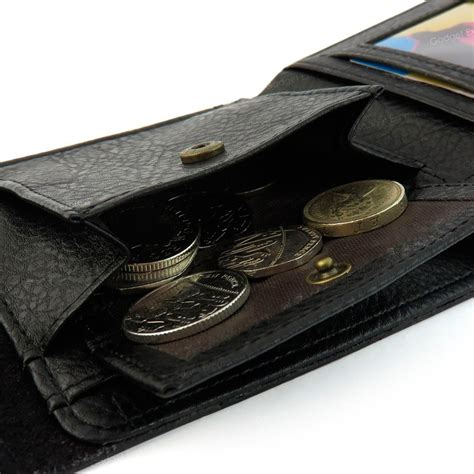cuero: (1, 2, 474, 474)
